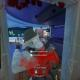Character: (11, 28, 59, 80), (38, 32, 41, 40)
Head: (23, 28, 37, 42), (38, 33, 40, 34)
